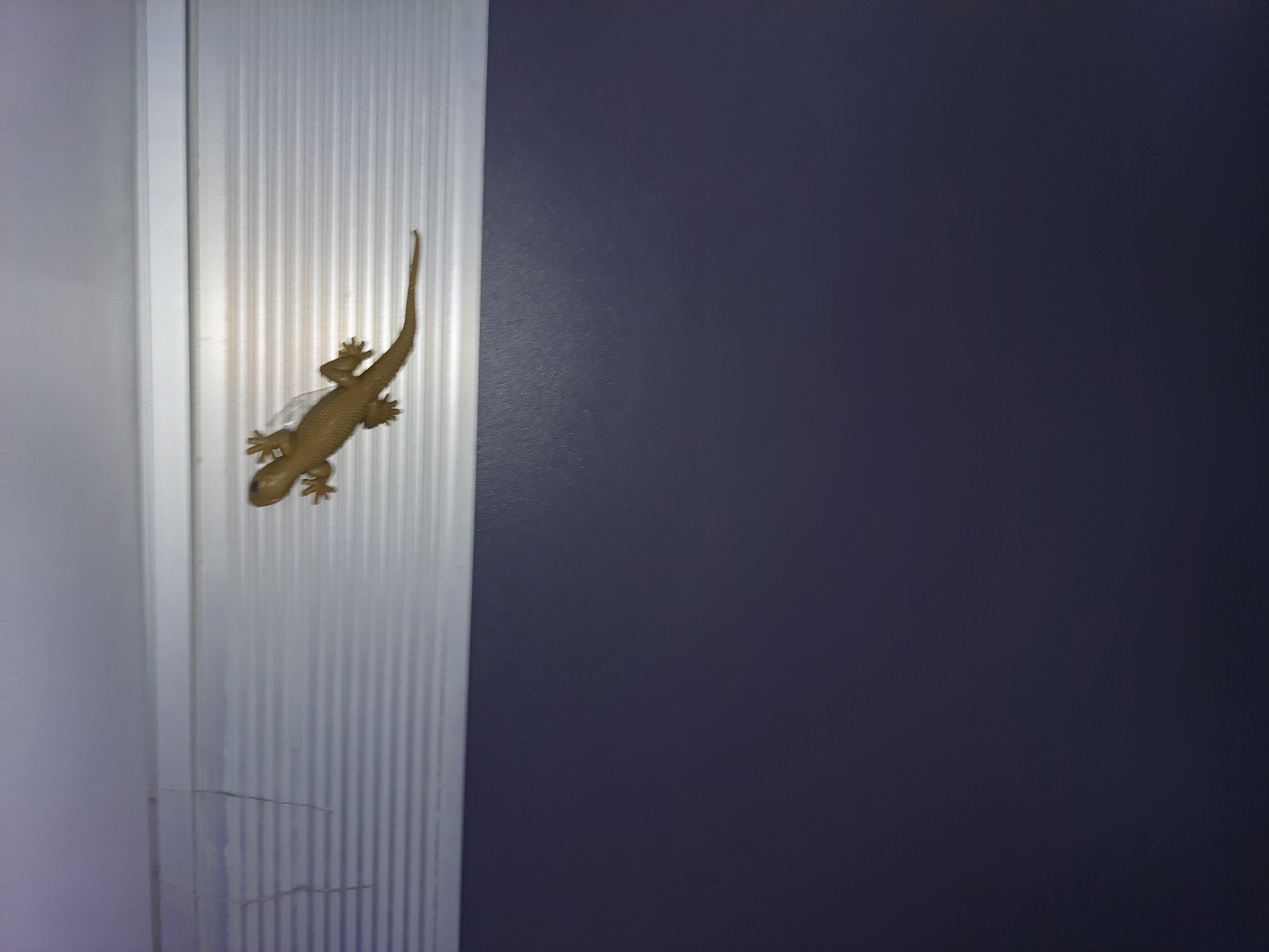lizard: (557, 157, 972, 323)
